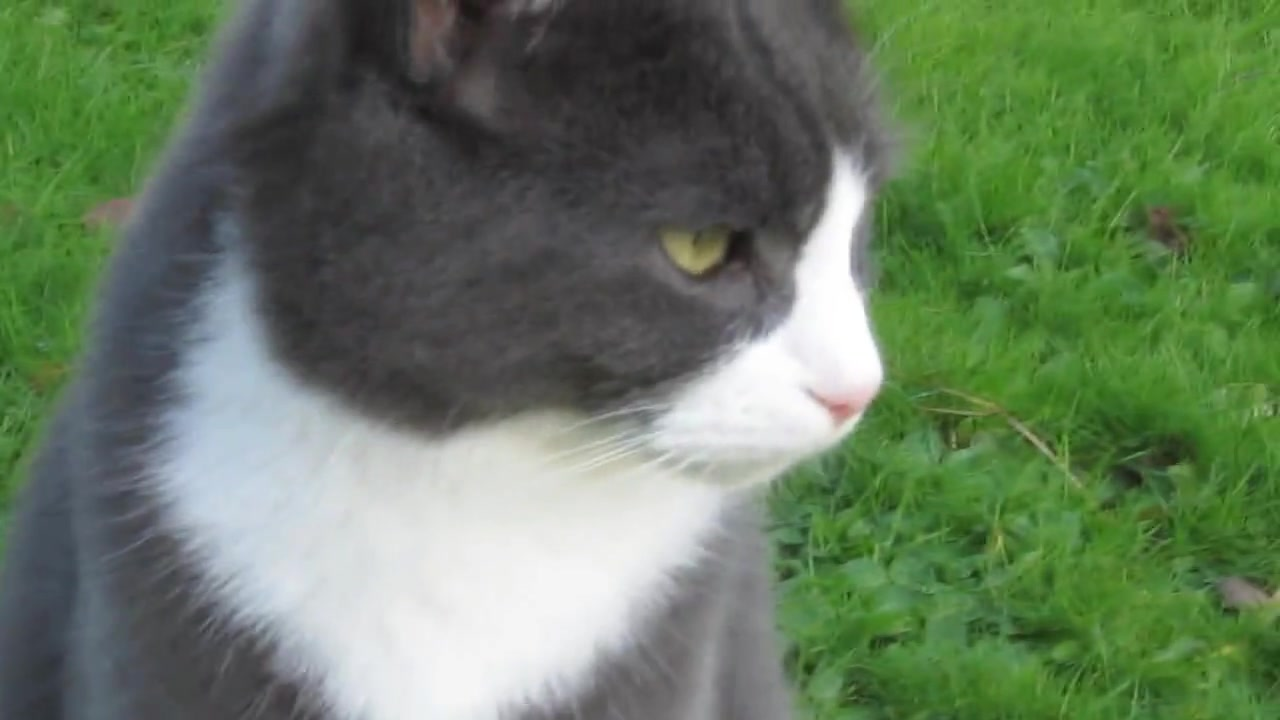cat: (2, 1, 897, 720)
